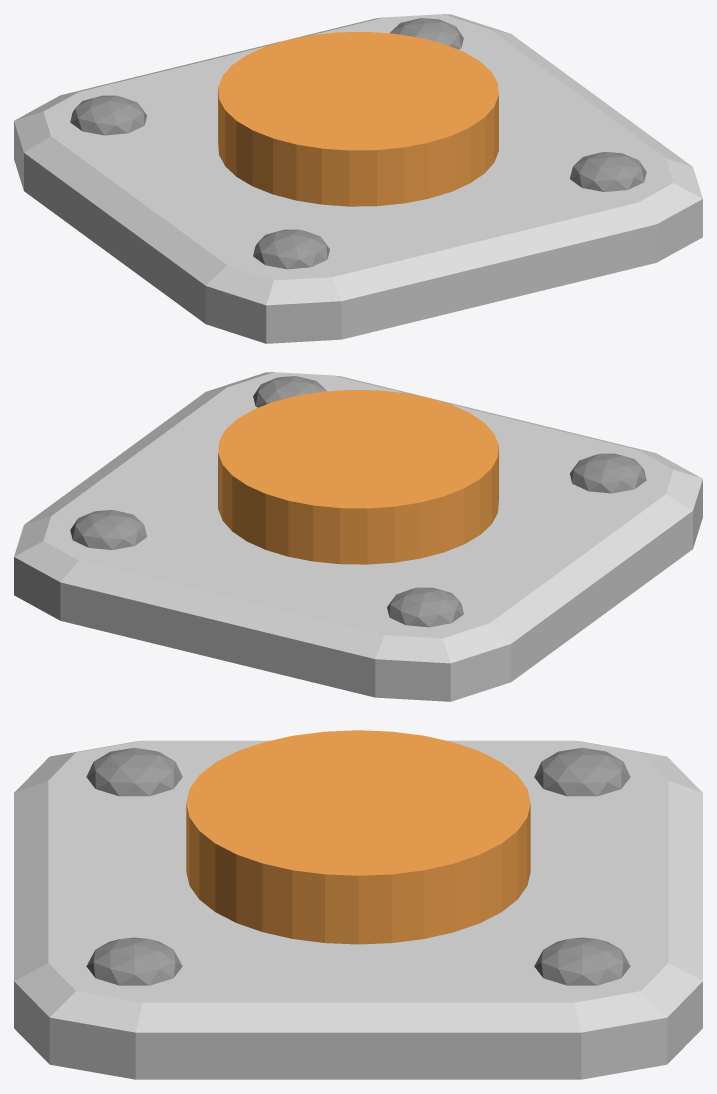
The model's file is Button up.fbx.
3 renders of one model, top to bottom at view 1: azimuth 30°, elevation 25°; view 2: azimuth 150°, elevation 25°; view 3: azimuth 270°, elevation 25°, orthographic. The views are drawn at different scales.
Parts seen in each view (by area): view 1: Cube; view 2: Cube; view 3: Cube.
Boxes of the visible parts, <box> form: Cube: <box>14,14,702,343</box>; Cube: <box>14,372,702,701</box>; Cube: <box>14,730,702,1079</box>.
Size of the model in its own units: 200 by 42 by 200.
